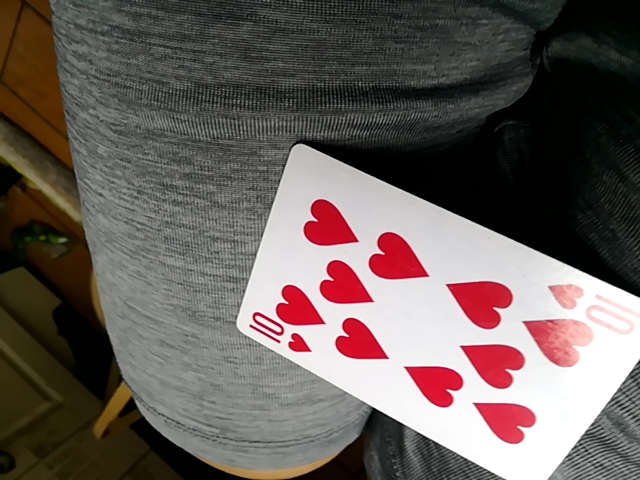hx 10: (231, 140, 640, 478)
